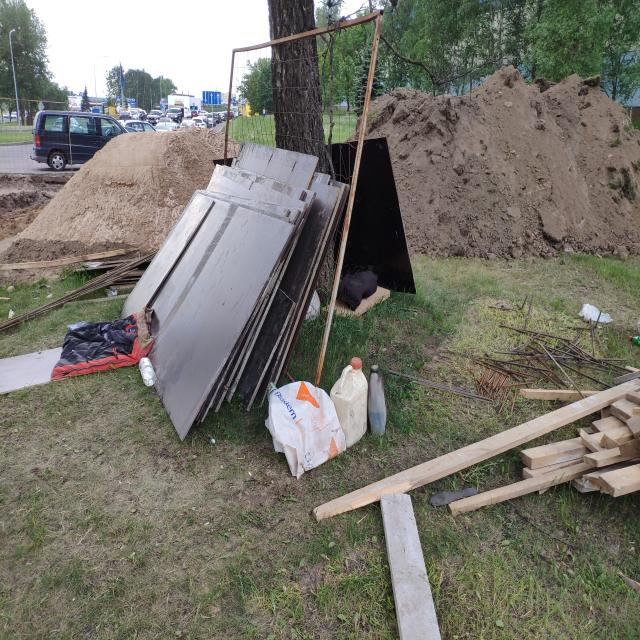entulho: (129, 189, 292, 440), (224, 172, 368, 324), (312, 437, 598, 510), (317, 136, 420, 298), (514, 384, 636, 497), (262, 378, 343, 479), (52, 315, 152, 377)
lixo domiciliar: (333, 352, 367, 446), (369, 359, 387, 439), (580, 300, 614, 325), (138, 356, 156, 388), (626, 333, 640, 348)
terra: (368, 62, 639, 247), (55, 121, 233, 247)
